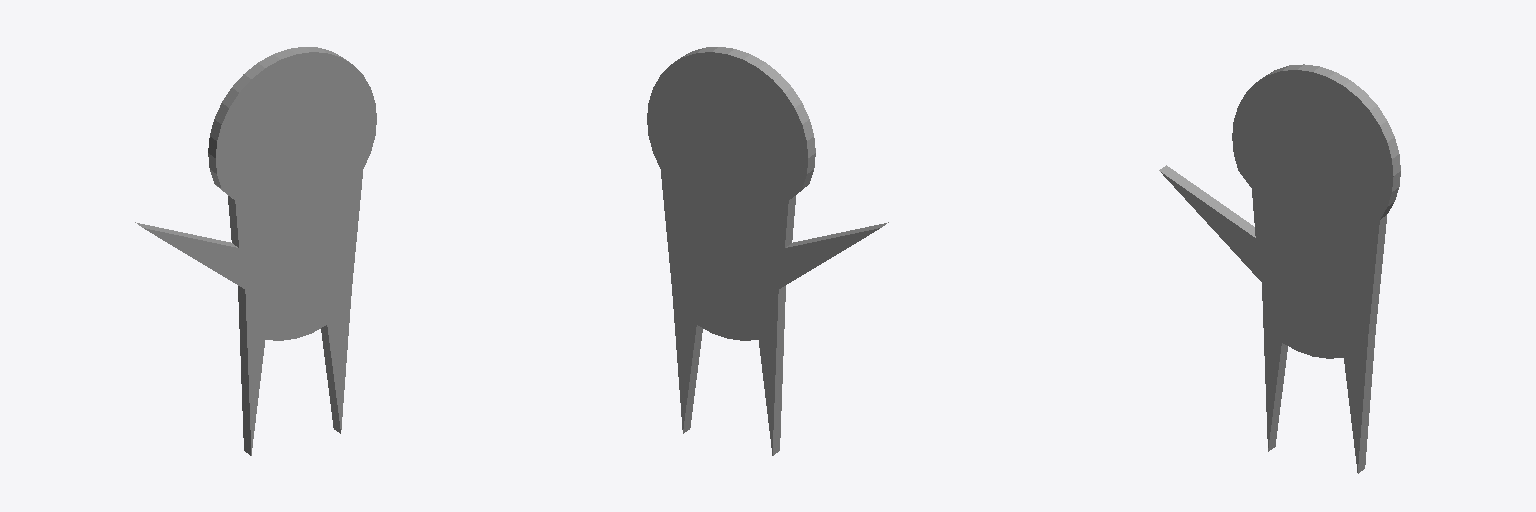
3 renders of one model, left to right at view 1: azimuth 30°, elevation 25°; view 2: azimuth 150°, elevation 25°; view 3: azimuth 330°, elevation 25°, orthographic.
Parts seen in each view (by area): view 1: Circle; view 2: Circle; view 3: Circle.
Boxes of the visible parts, box(x1,y1,x2,y2) form: Circle: box(135, 47, 376, 455); Circle: box(647, 47, 888, 455); Circle: box(1159, 64, 1400, 473).
Bounding box in the file's own units: 2.91 × 4.63 × 0.161.
Materials: 1 (1 with a texture image).